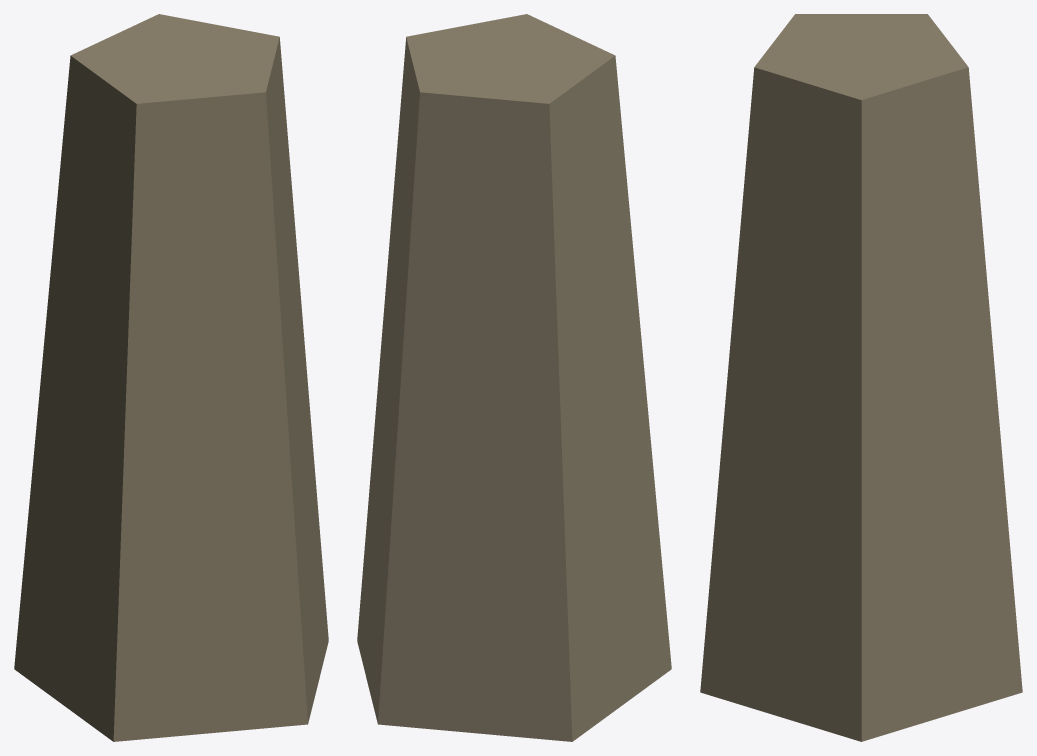
The model's file is Oak4.fbx.
The picture shows the model from 3 angles, left to right: view 1: azimuth 30°, elevation 25°; view 2: azimuth 150°, elevation 25°; view 3: azimuth 270°, elevation 25°; orthographic projection.
Visible parts, largest first — view 1: Oak4; view 2: Oak4; view 3: Oak4.
Boxes of the visible parts, x1,y1,x2,y2 form: Oak4: [14, 14, 328, 741]; Oak4: [357, 14, 671, 741]; Oak4: [700, 14, 1022, 741].
Size of the model in its own units: 1.81 by 4.02 by 1.9.
